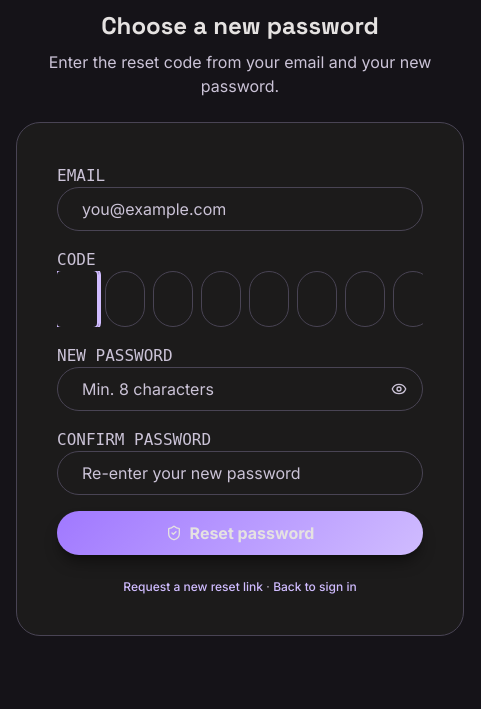
ResetPasswordPage › password validation › rejects empty email
Click the button "Reset password": (240, 533) [57,511,423,555]
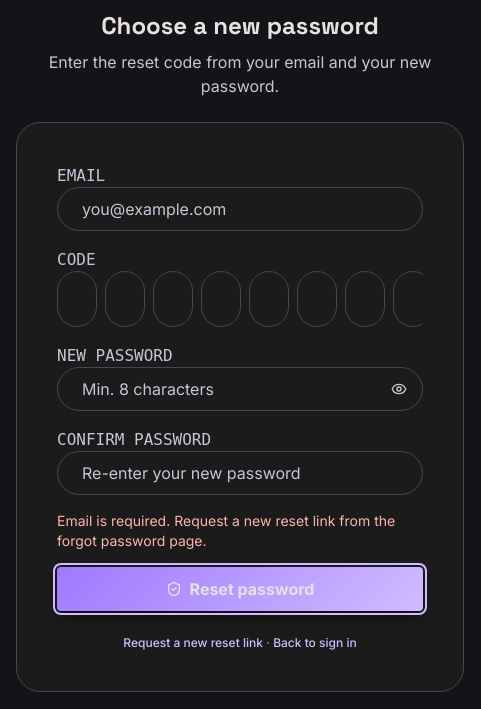
Check: the message shows "Email is required", box [57,512,395,549]
